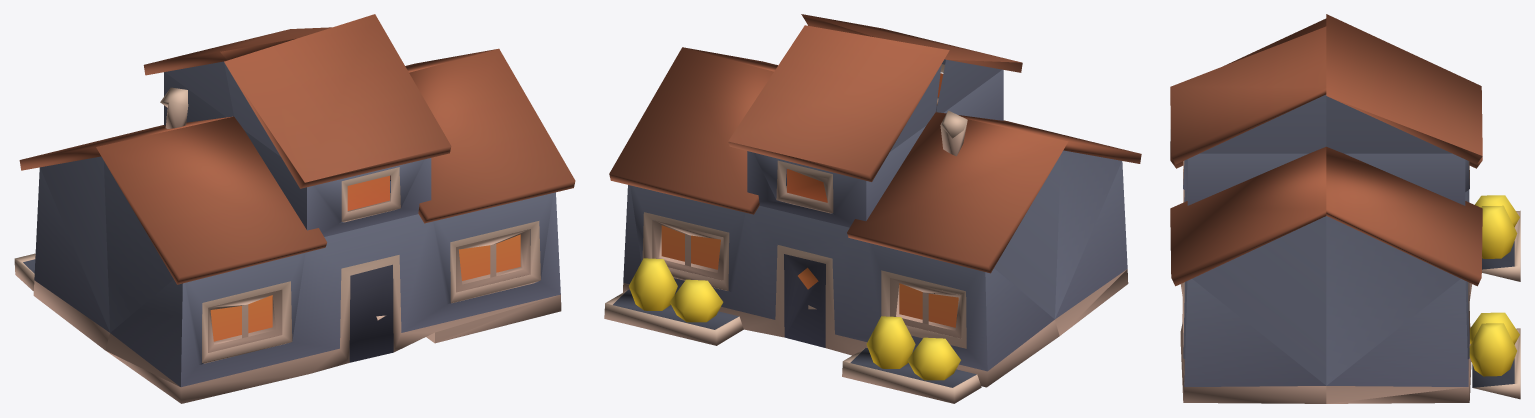
The model's file is casa_a.fbx.
3 views of the same model, side by side, from view 1: azimuth 30°, elevation 25°; view 2: azimuth 150°, elevation 25°; view 3: azimuth 270°, elevation 25° (orthographic). The views are drawn at different scales.
Visible parts, largest first — view 1: casa_a; view 2: casa_a; view 3: casa_a.
Boxes of the visible parts, x1,y1,x2,y2 form: casa_a: (14,14,575,403); casa_a: (604,14,1141,403); casa_a: (1170,14,1520,403).
Size of the model in its own units: 1.3 by 0.8335 by 1.01.
